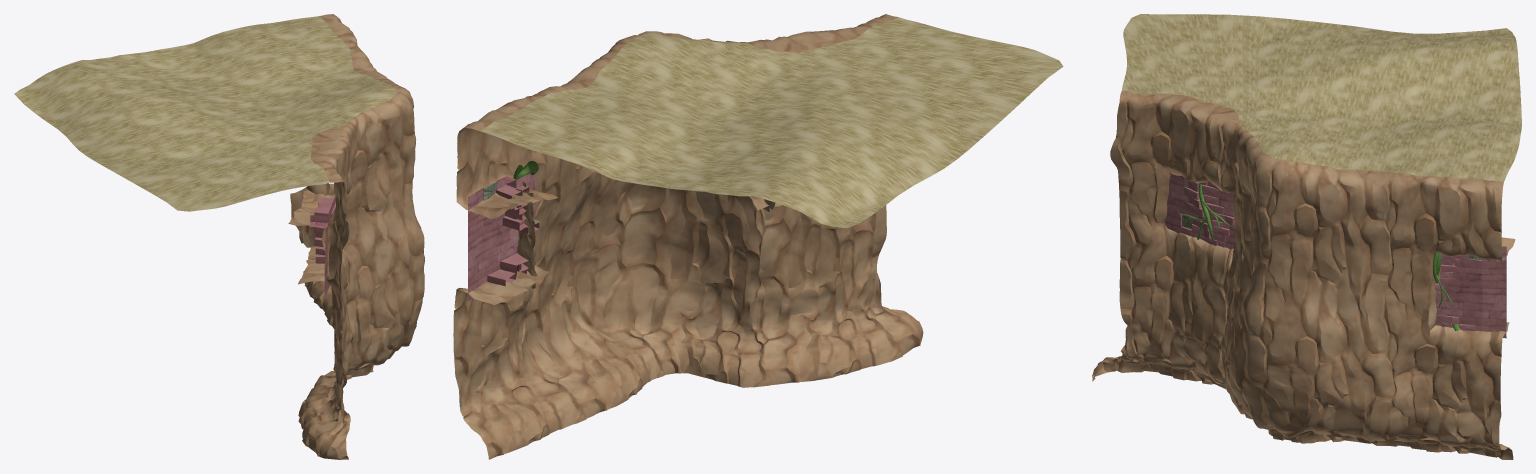
Rendered from SM_ENV_KNFRST_Cliff_Ad.FBX.
3 renders of one model, left to right at view 1: azimuth 30°, elevation 25°; view 2: azimuth 150°, elevation 25°; view 3: azimuth 270°, elevation 25°, orthographic. The views are drawn at different scales.
Parts seen in each view (by area): view 1: SM_ENV_KNFRST_Cliff_Ad; view 2: SM_ENV_KNFRST_Cliff_Ad; view 3: SM_ENV_KNFRST_Cliff_Ad.
Boxes of the visible parts, x1,y1,x2,y2 form: SM_ENV_KNFRST_Cliff_Ad: [14, 14, 424, 459]; SM_ENV_KNFRST_Cliff_Ad: [453, 14, 1063, 459]; SM_ENV_KNFRST_Cliff_Ad: [1092, 14, 1521, 459].
Bounding box in the file's own units: 5095 × 3957 × 5230.
